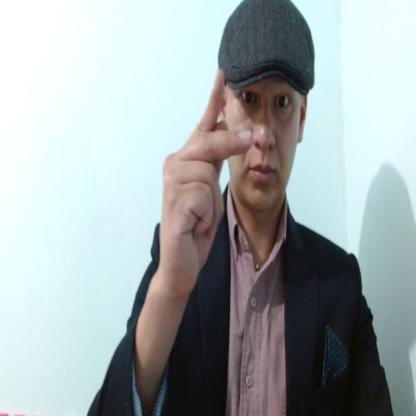P: (159, 67, 255, 288)
